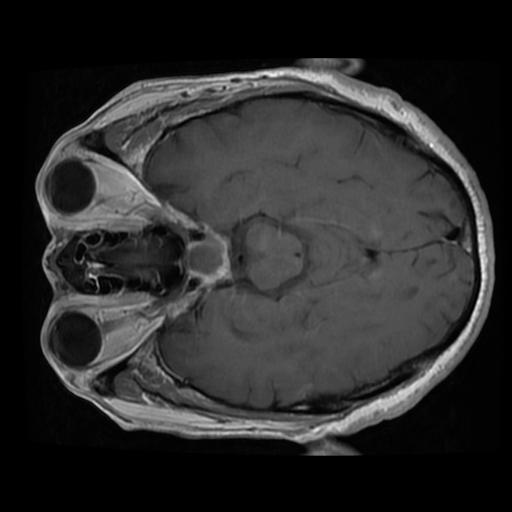pituitary tumour: (185, 234, 230, 284)
